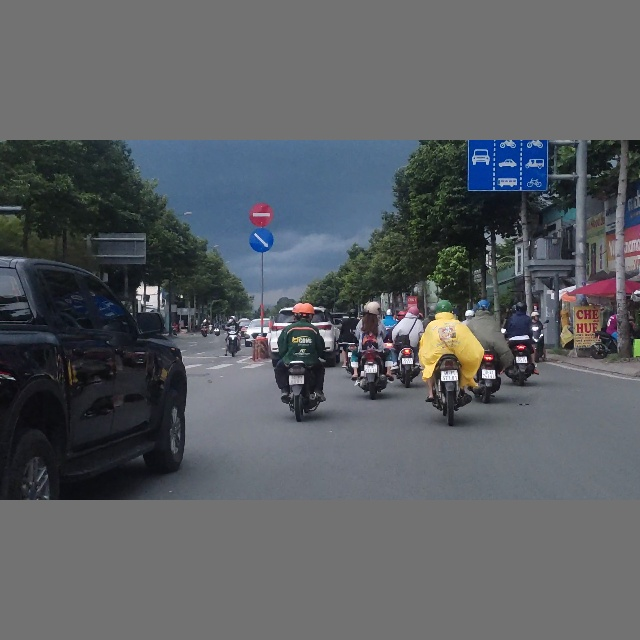P.102: (249, 203, 274, 227)
R.302a: (250, 227, 274, 253)
